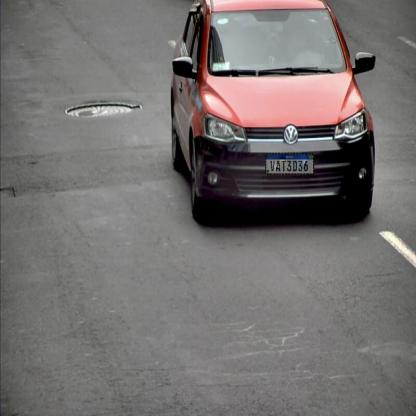PlacaM: (265, 153, 314, 175)
